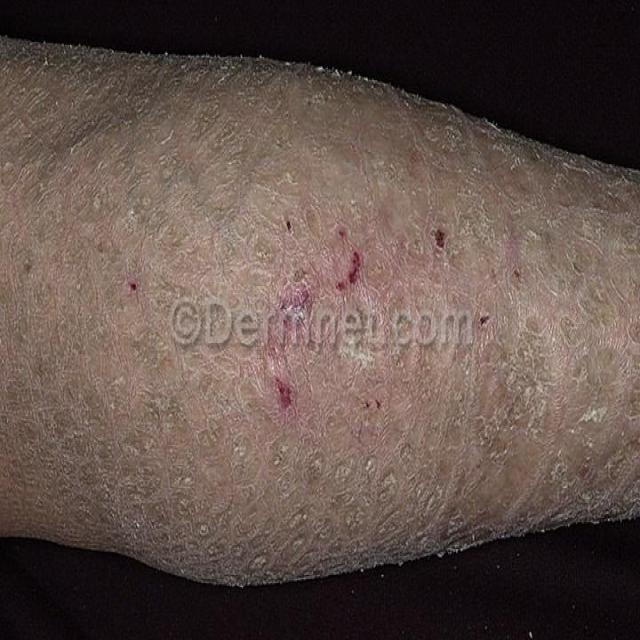liquenificacion 1: (0, 29, 639, 586)
liquenificacion 2: (0, 29, 639, 586)
